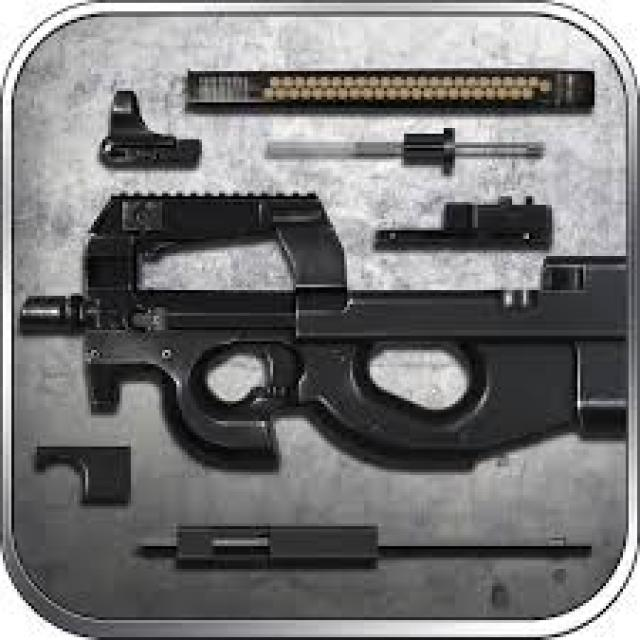Gun: (14, 112, 623, 498)
